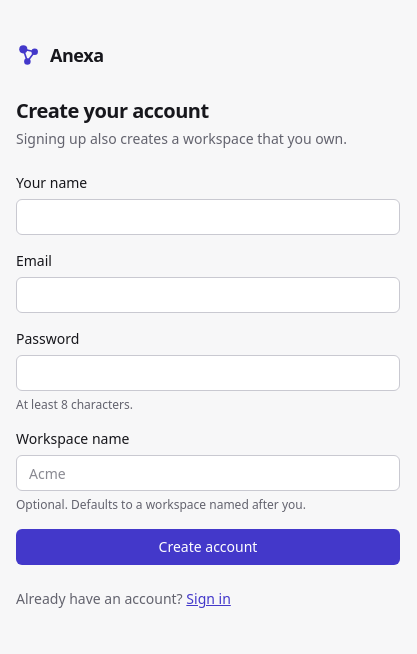
Scenario: authentication › shows a duplicate-email conflict from signup
The image size is (417, 654).
Type "Ada" into the field labelled "Your name". click: (208, 217)
box: [16,199,400,235]
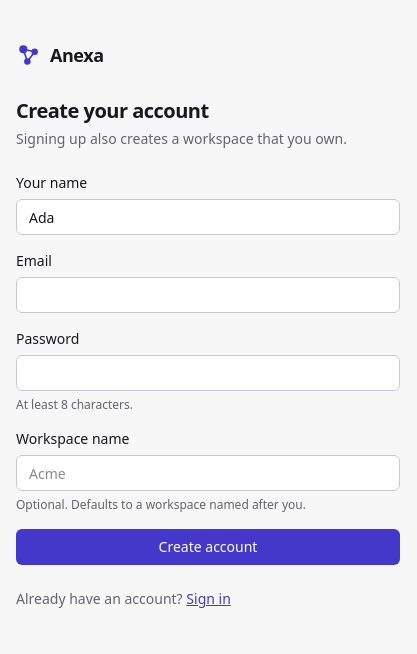
Type "ada@acme.com" into the field labelled "Email". click: (208, 295)
box: [16,277,400,313]
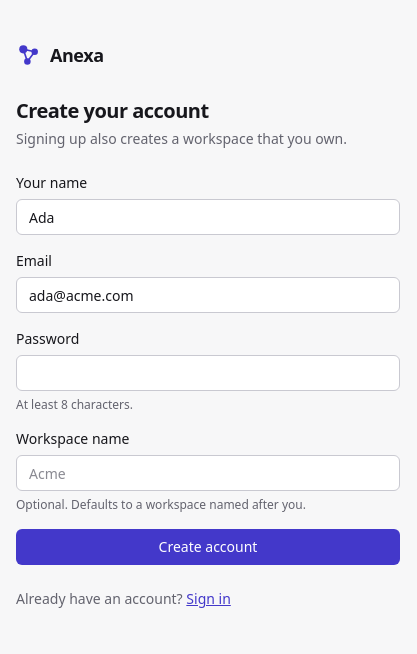
Type "long enough" into the password field labelled "Password". click: (208, 373)
box: [16,355,400,391]
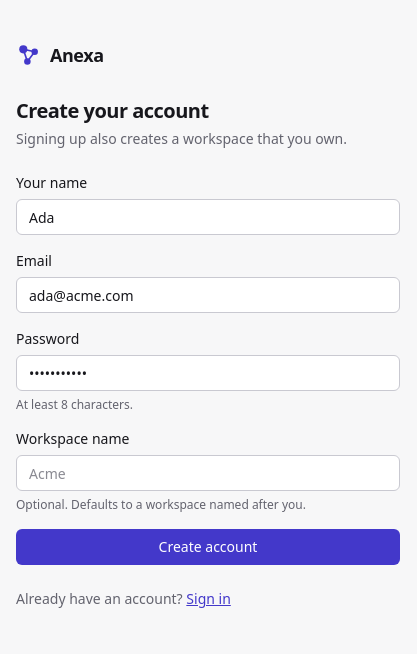
Click the button "Create account". click: (208, 547)
box: [16,529,400,565]
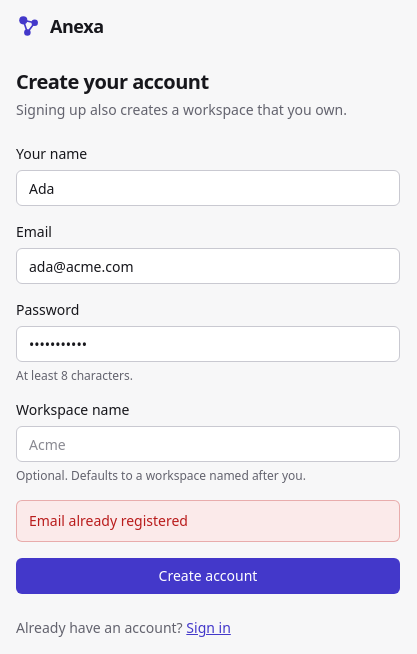
Now the message reads "Email already registered", box [29,511,188,530]
